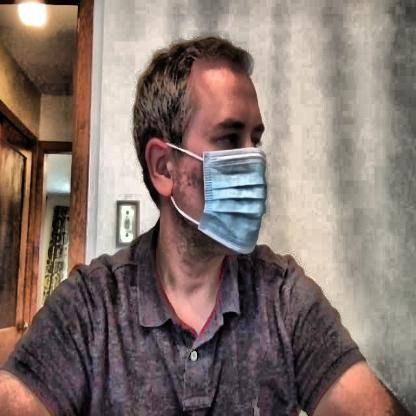not_wear: (136, 39, 267, 238)
